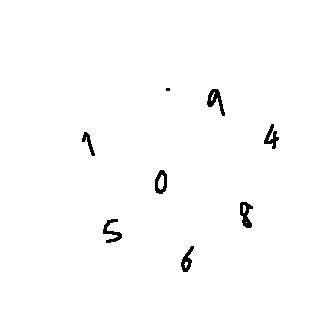.: (159, 83, 181, 96)
0: (151, 166, 174, 205)
1: (75, 129, 108, 166)
4: (255, 120, 294, 154)
5: (100, 215, 134, 247)
6: (179, 240, 203, 281)
8: (233, 195, 262, 233)
9: (204, 78, 232, 124)
